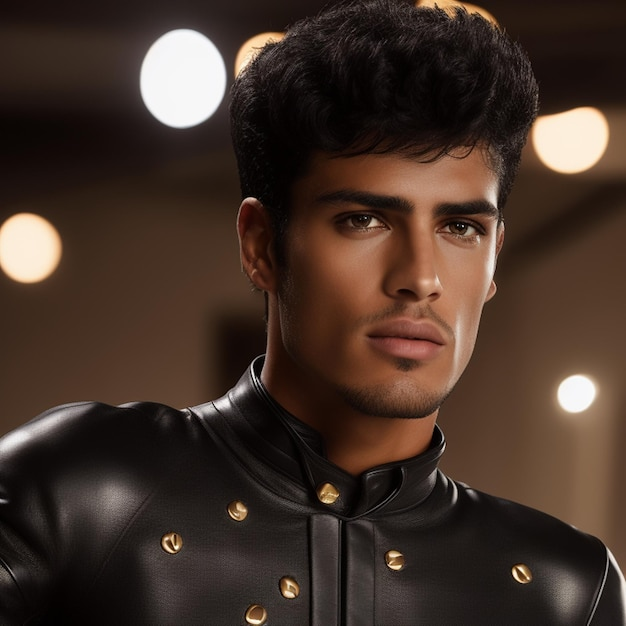young: (224, 29, 539, 414)
